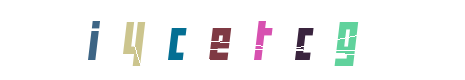C: (182, 0, 262, 80), (263, 0, 343, 80)
E: (192, 0, 272, 80)
G: (290, 0, 370, 80)
I: (100, 0, 180, 80)
T: (220, 0, 300, 80)
Y: (116, 0, 196, 80)
